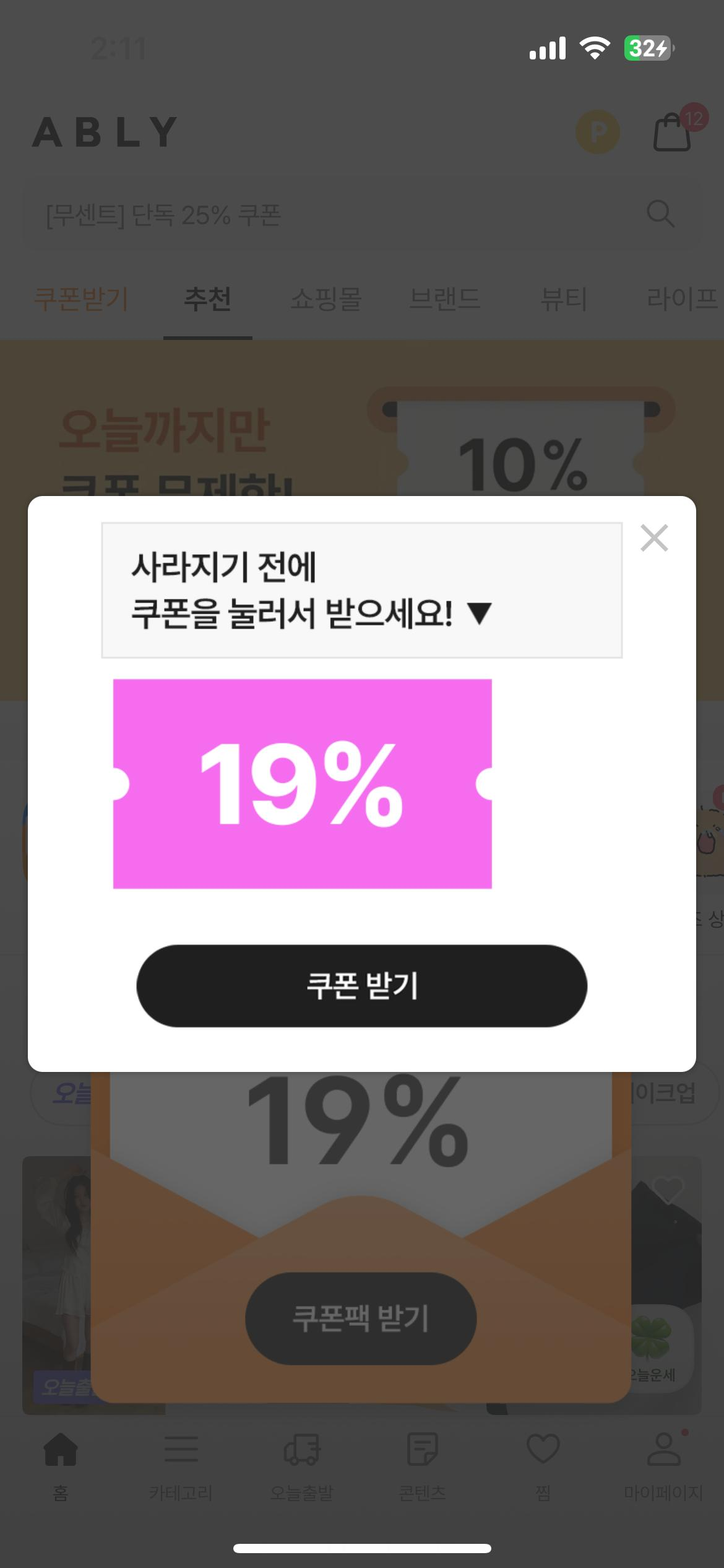button: (136, 939, 593, 1032), (615, 1419, 713, 1514), (140, 1417, 226, 1518), (264, 1416, 349, 1514), (383, 1422, 468, 1516), (511, 1420, 586, 1518), (31, 270, 134, 336), (163, 270, 258, 340), (27, 1422, 99, 1514), (282, 268, 371, 337), (403, 272, 491, 333), (643, 92, 717, 163), (639, 274, 724, 332), (570, 96, 628, 170), (532, 274, 602, 334), (633, 515, 683, 565)
input_field: (36, 182, 697, 256)
popup: (28, 494, 698, 1080)
